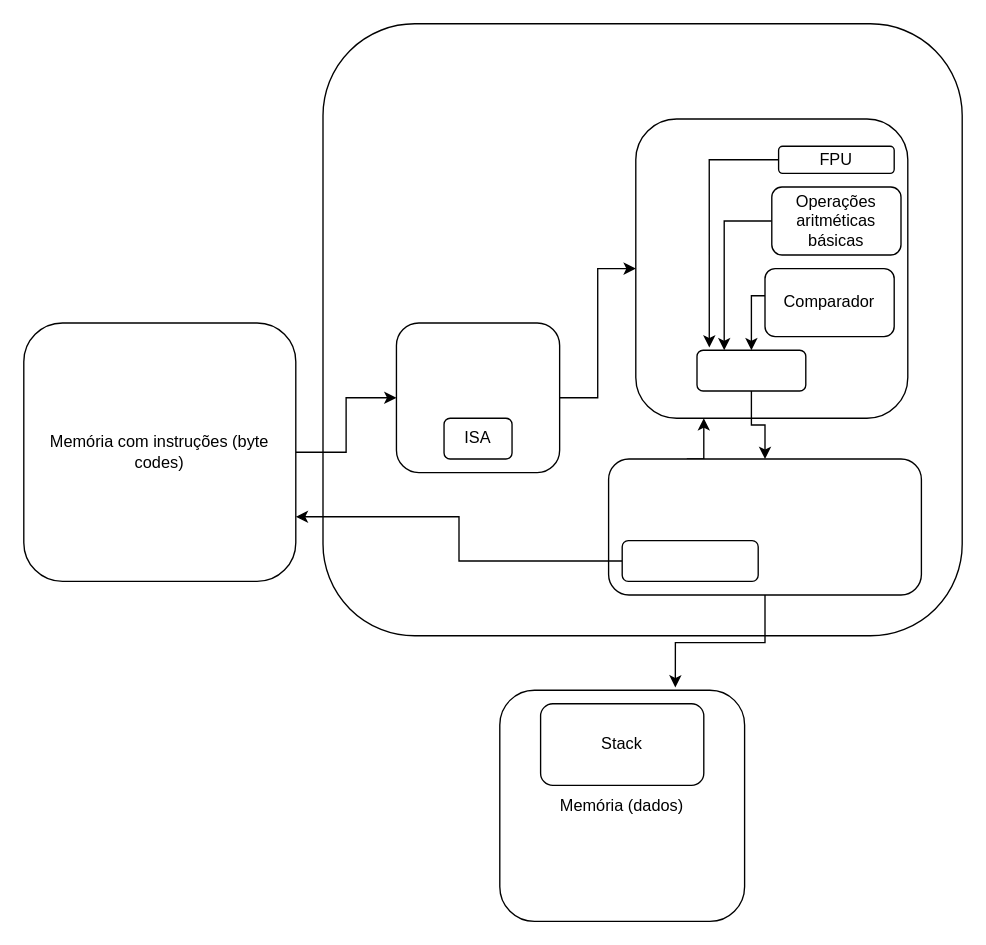
This 986x945 diagram has some shape labels left out. Here are the shapes that lost their labels. From the top down, the box of each, then its label:
(696, 349, 806, 391): MUX
(395, 322, 560, 473): Unidade de controle (Decoder)
(607, 458, 921, 595): Registradores
(621, 539, 758, 581): Program Counter
